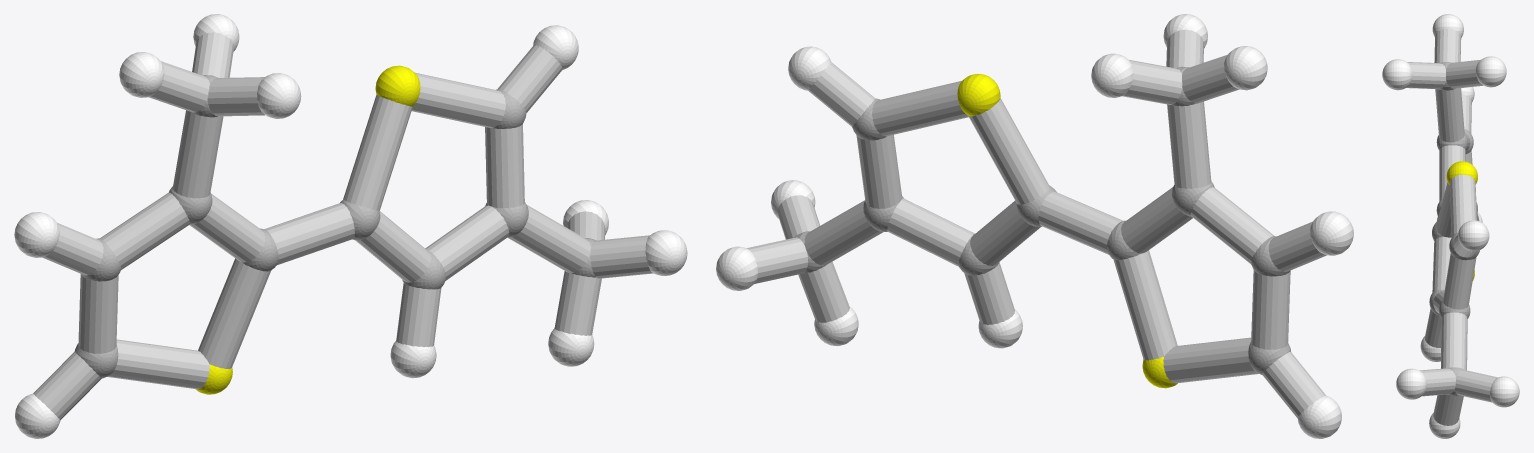
Rendered from color.glb.
3 renders of one model, left to right at view 1: azimuth 30°, elevation 25°; view 2: azimuth 150°, elevation 25°; view 3: azimuth 270°, elevation 25°, orthographic. The views are drawn at different scales.
Visible parts, largest first — view 1: grp7965, grp3621, grp1, grp7241; view 2: grp7965, grp3621, grp1, grp7241; view 3: grp7965, grp3621, grp1, grp7241.
Part boxes in pixels (x1,y1,x2,y2): grp7965: [33, 32, 653, 420]; grp3621: [14, 14, 687, 438]; grp1: [74, 75, 596, 378]; grp7241: [195, 65, 420, 394]; grp7965: [747, 29, 1326, 418]; grp3621: [716, 14, 1353, 438]; grp1: [794, 66, 1290, 374]; grp7241: [957, 73, 1177, 388]; grp7965: [1406, 28, 1497, 425]; grp3621: [1382, 14, 1519, 438]; grp1: [1429, 62, 1479, 395]; grp7241: [1446, 161, 1477, 280].
Bounding box in the file's own units: 9.49 × 5.92 × 2.63.
